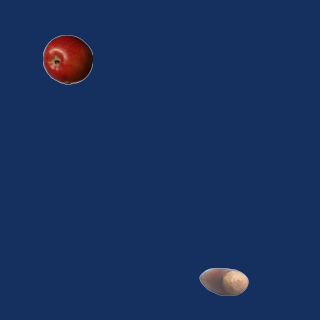Apple Braeburn: (42, 34, 92, 84)
Hazelnut: (198, 256, 248, 306)
